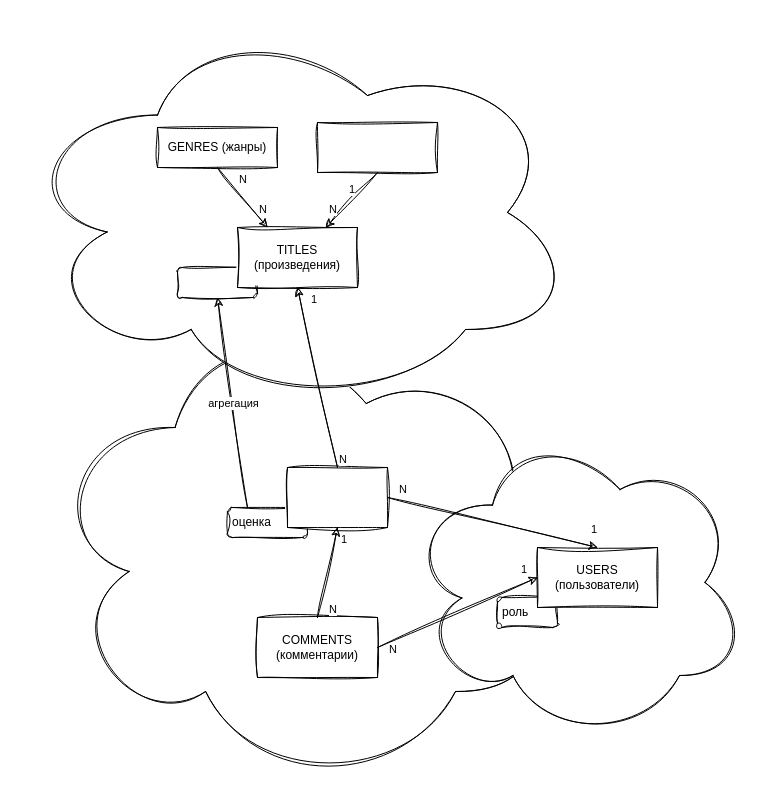
Some shapes in this 765 by 805 pixel diagram are drawn without their labels. Here are the shapes that lost their labels. From the top down, the centre of each, then its label:
the point at 377,147: CATEGORIES (категории)
the point at 217,282: рейтинг
the point at 337,497: REVIEWS (отзывы)
